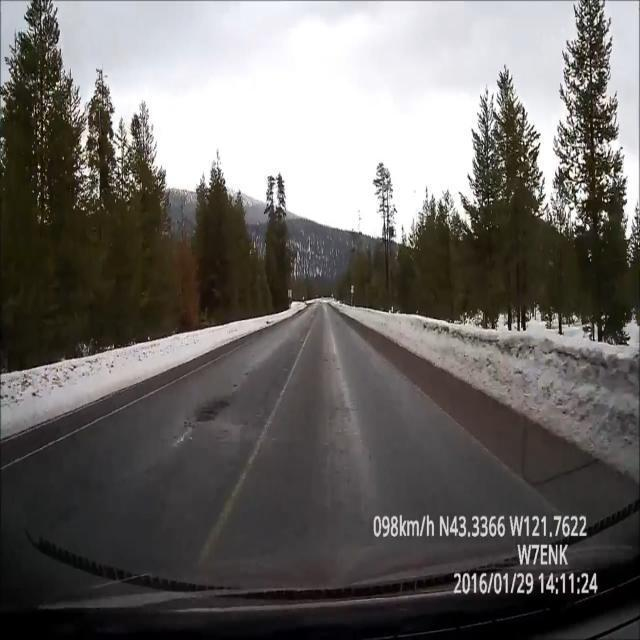pothole: (192, 397, 234, 432)
